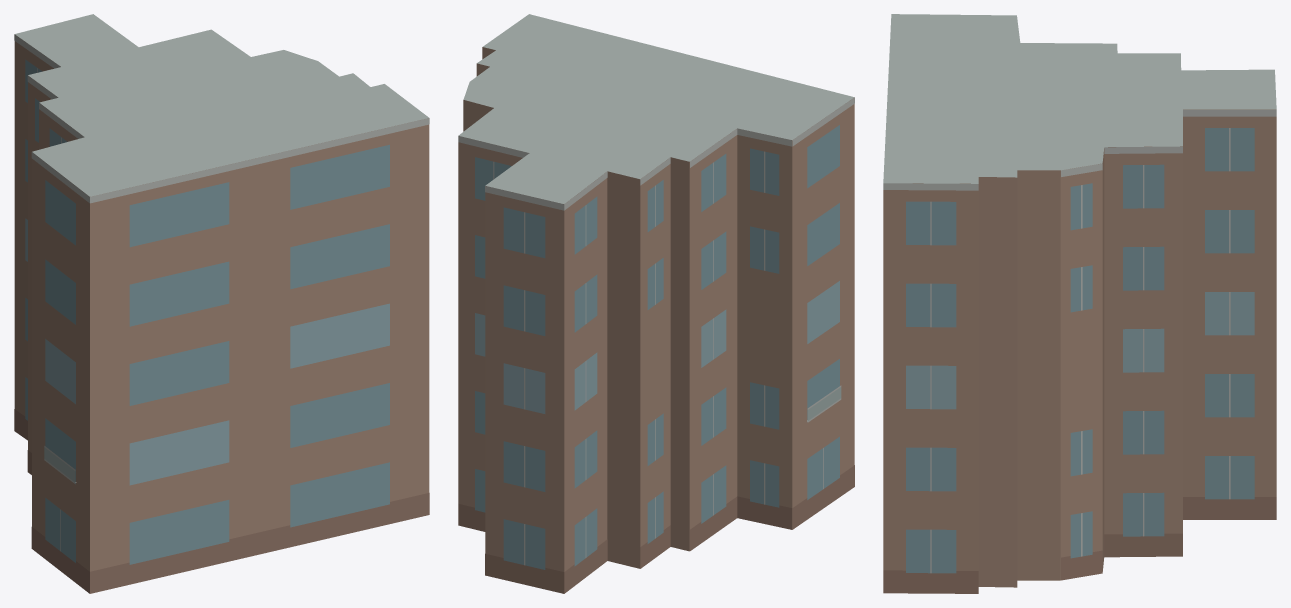
The model's file is survey-upis-32666302.glb.
3 views of the same model, side by side, from view 1: azimuth 30°, elevation 25°; view 2: azimuth 150°, elevation 25°; view 3: azimuth 270°, elevation 25° (orthographic). The views are drawn at different scales.
Parts seen in each view (by area): view 1: survey-upis-32666302.tmp; view 2: survey-upis-32666302.tmp; view 3: survey-upis-32666302.tmp.
Boxes of the visible parts, x1,y1,x2,y2 form: survey-upis-32666302.tmp: (14, 14, 429, 593); survey-upis-32666302.tmp: (458, 14, 854, 593); survey-upis-32666302.tmp: (883, 14, 1276, 593).
Bounding box in the file's own units: 13.08 × 14.7 × 12.79.
